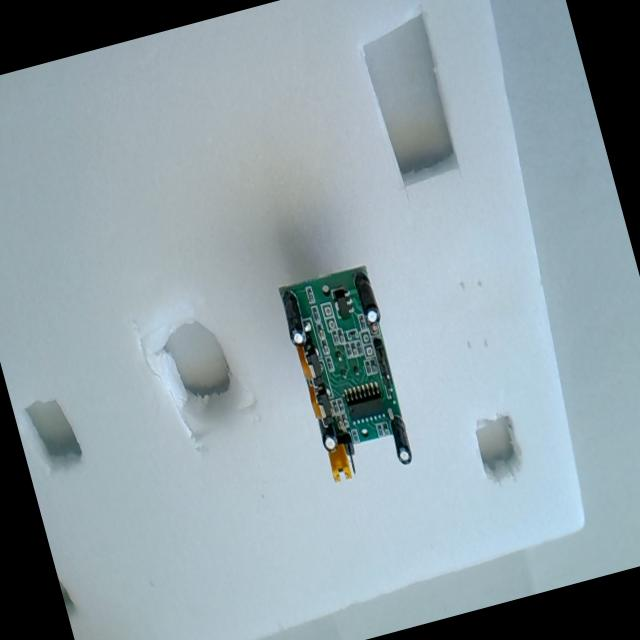Electrolytic capacitor: (278, 288, 309, 348), (352, 268, 382, 324), (387, 413, 415, 468), (316, 417, 339, 452)
IC: (342, 380, 387, 420)
pinheader: (370, 335, 402, 407)
